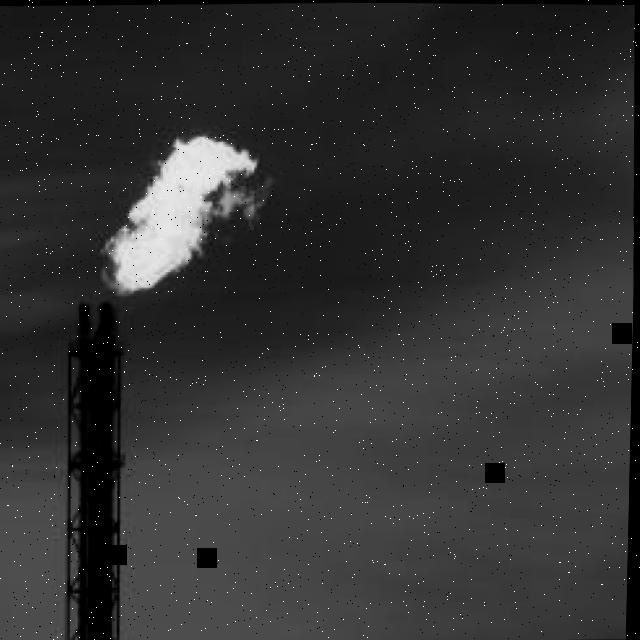fire: (100, 136, 275, 291)
